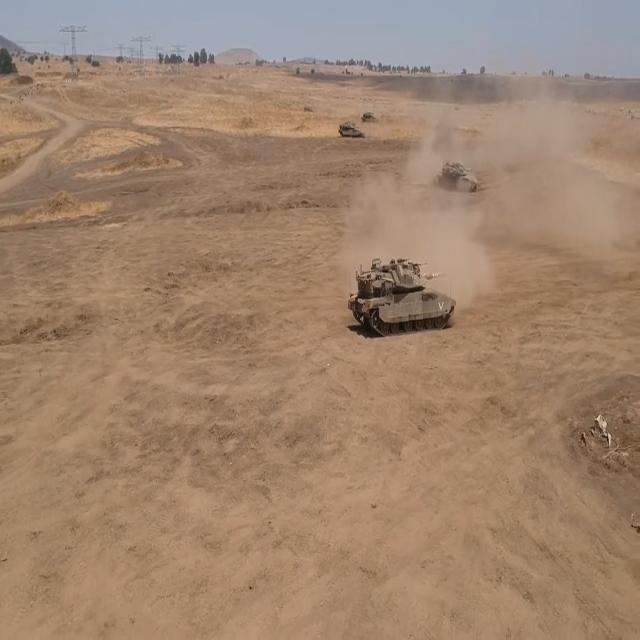tank: (348, 247, 459, 336), (429, 154, 481, 207), (338, 118, 368, 146), (365, 104, 378, 122)
